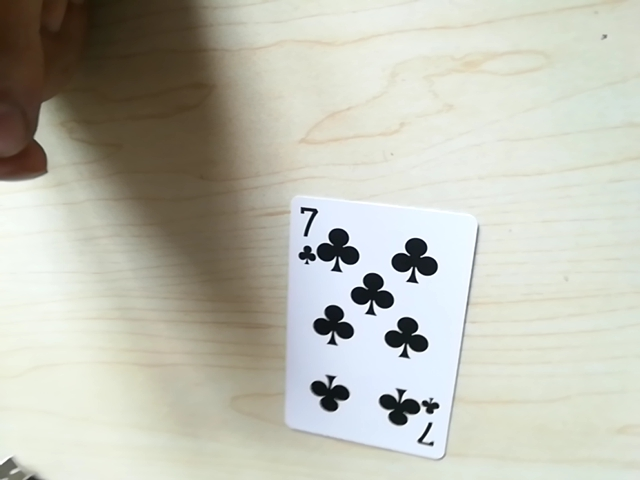mh 7: (286, 199, 327, 256), (406, 400, 441, 457)
